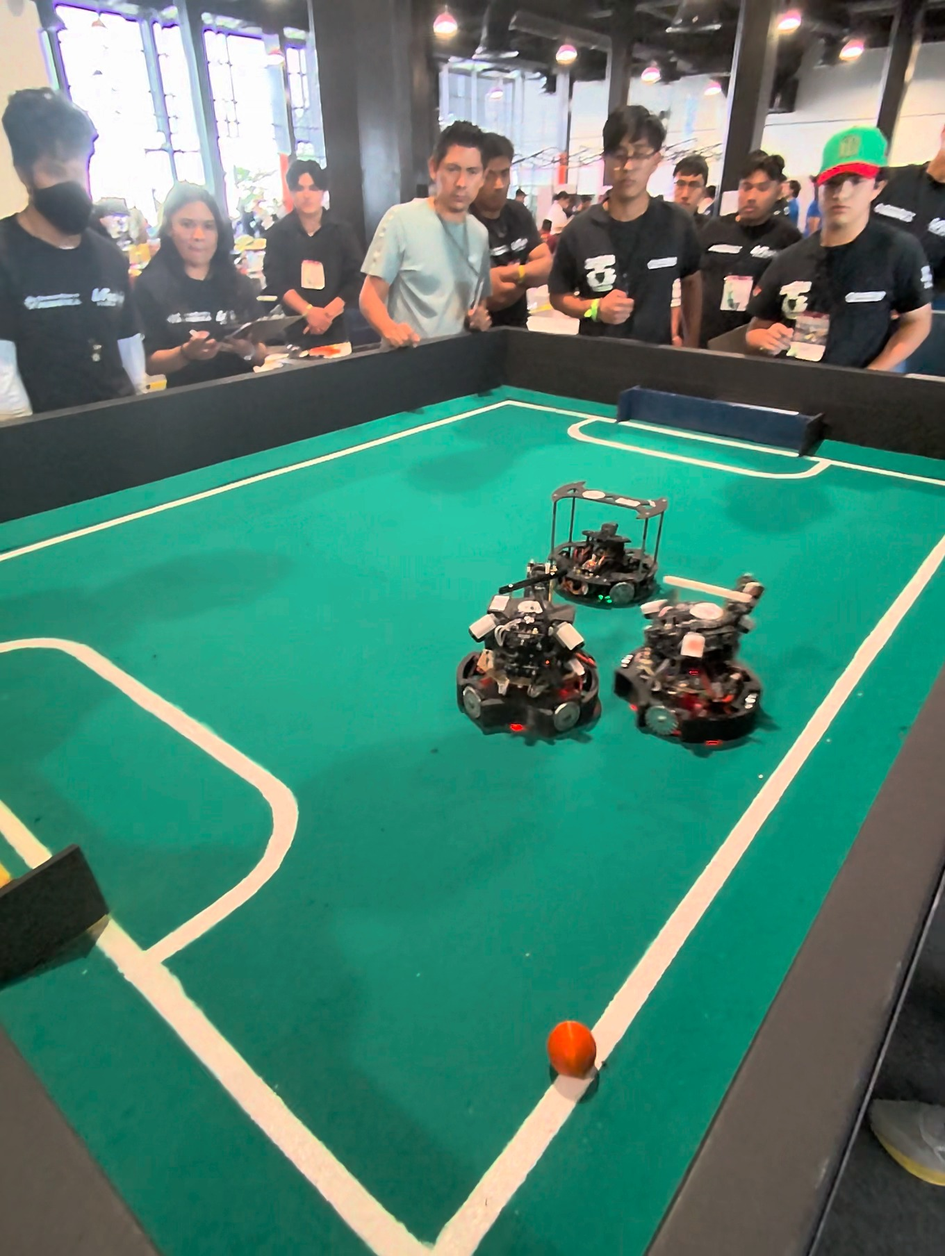Robot: (618, 548, 773, 764), (451, 576, 598, 756), (527, 474, 673, 611)
pelota: (545, 1018, 597, 1090)
